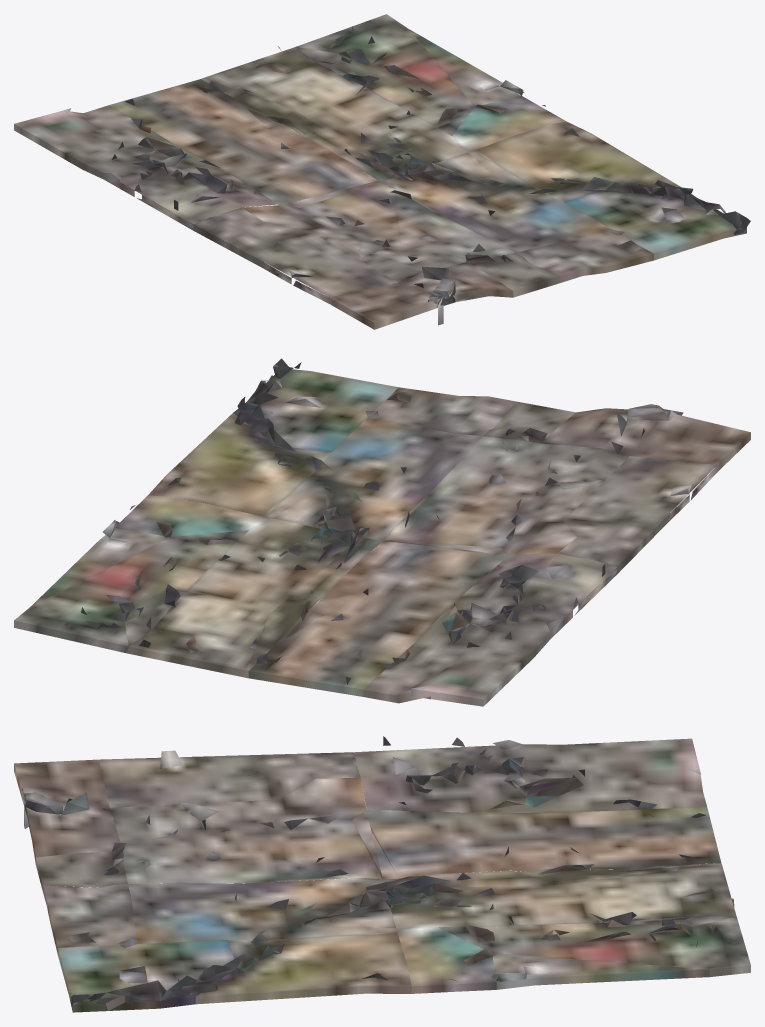
The picture shows the model from 3 angles, top to bottom: view 1: azimuth 30°, elevation 25°; view 2: azimuth 150°, elevation 25°; view 3: azimuth 270°, elevation 25°; orthographic projection. The views are drawn at different scales.
Parts seen in each view (by area): view 1: Mesh_0; view 2: Mesh_0; view 3: Mesh_0.
Boxes of the visible parts, x1,y1,x2,y2 form: Mesh_0: (14, 14, 750, 329); Mesh_0: (14, 358, 750, 706); Mesh_0: (14, 736, 750, 1012).
Bounding box in the file's own units: 1074 × 89.42 × 1317.
1 material, 1 textured.
